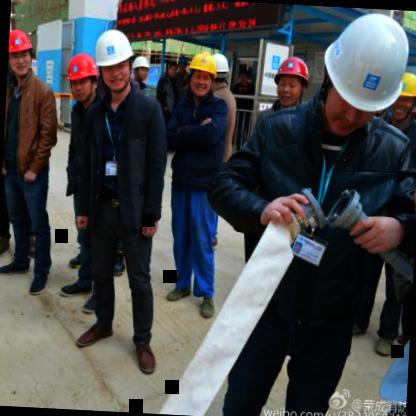helmet: (320, 6, 411, 137), (91, 24, 136, 93), (63, 50, 99, 105), (272, 56, 310, 108), (388, 67, 416, 122), (187, 49, 216, 98), (7, 25, 33, 74), (210, 51, 229, 83), (132, 54, 152, 82), (174, 52, 190, 76)
